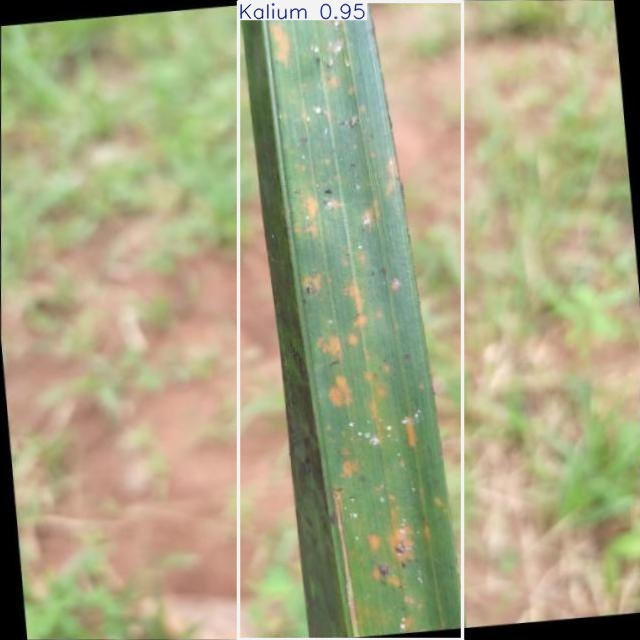Kalium: (239, 1, 462, 639)
